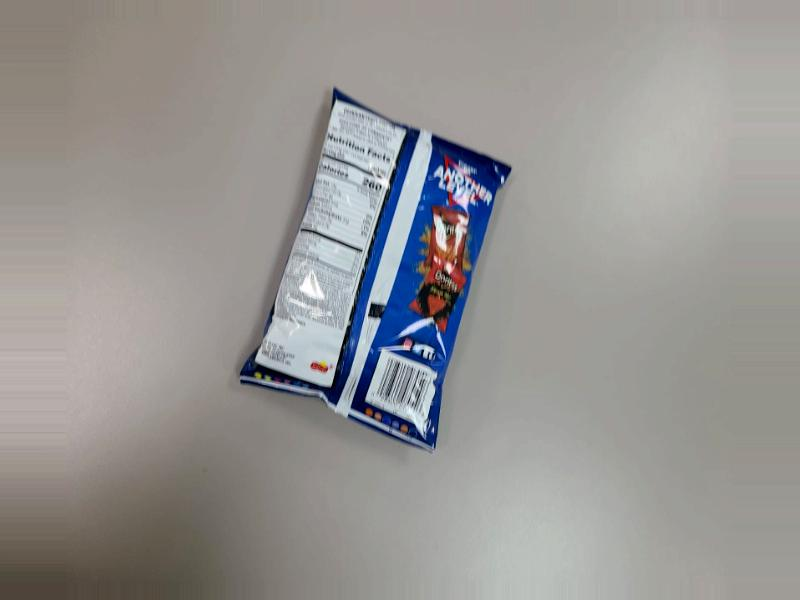doritos: (248, 100, 509, 484)
